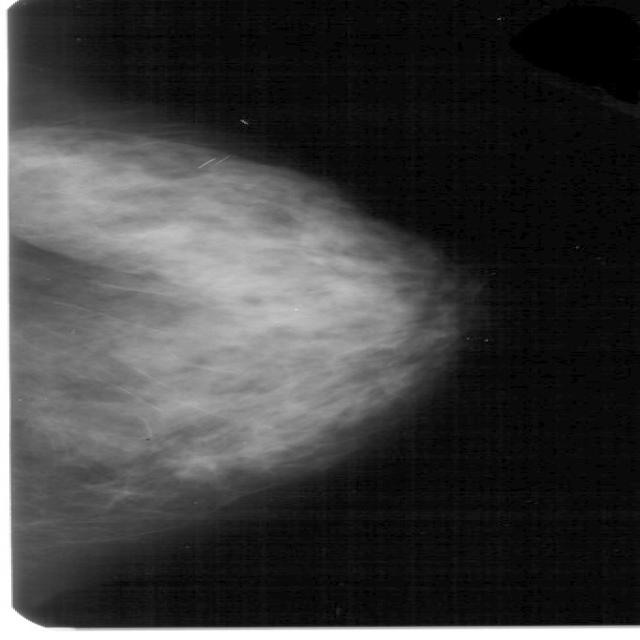tumour: (173, 448, 225, 477)
